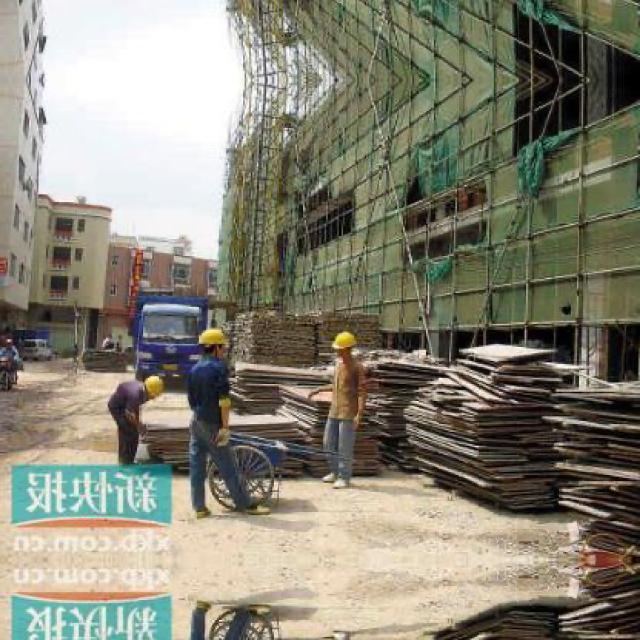con casco: (186, 305, 232, 376), (329, 323, 372, 364)
